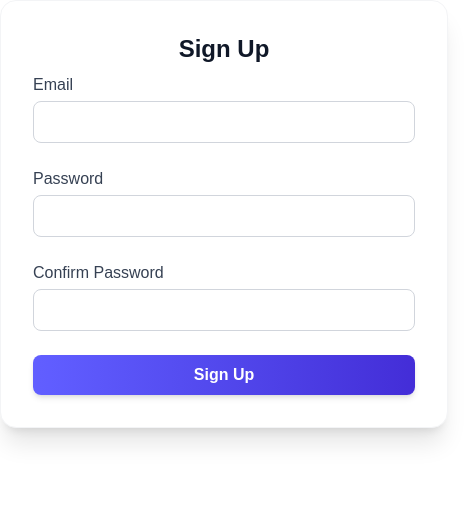
Scenario: SignupForm › shows success message after successful signup
Type "test@example.com" into the field labelled "Email" at (224, 122), box [33,101,415,143]
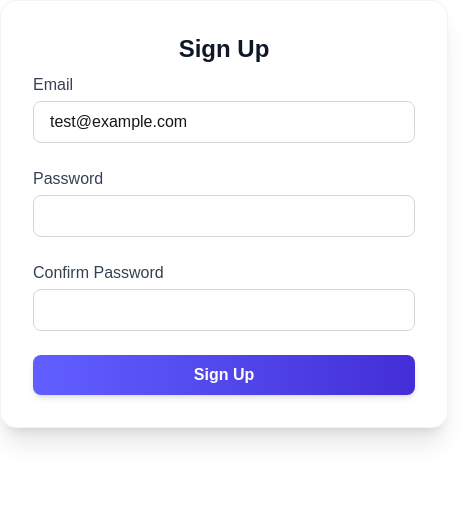
Type "password123" into the password field labelled "Password" at (224, 216), box [33,195,415,237]
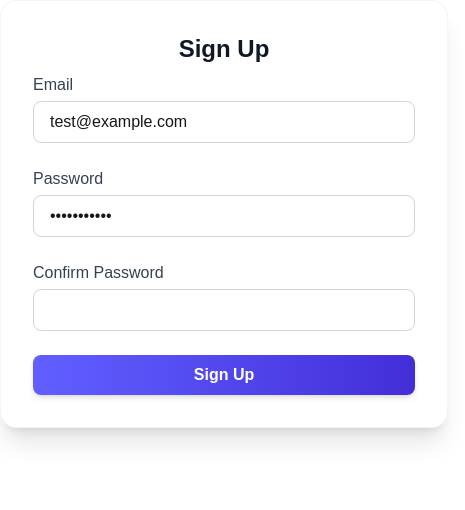
Type "password123" into the password field labelled "Confirm Password" at (224, 310), box [33,289,415,331]
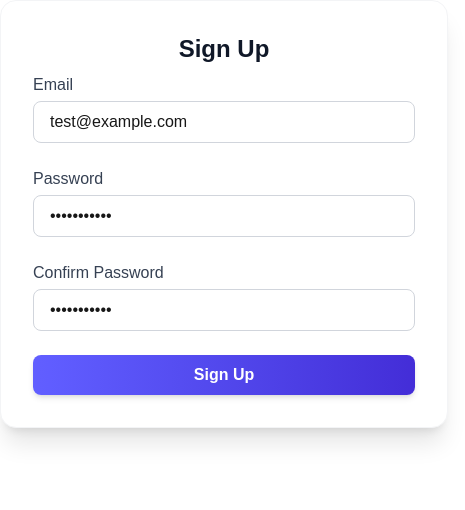
Submit the form
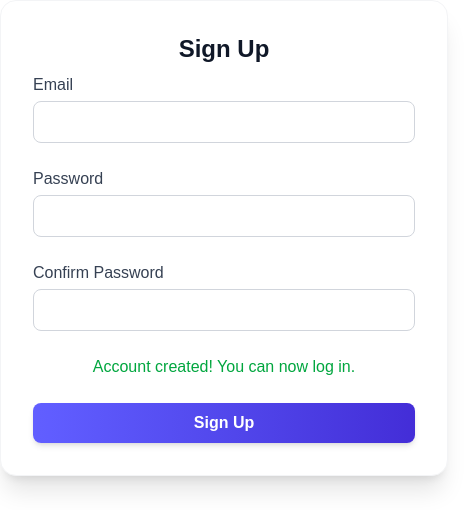
Result: the text "Account created! You can now log in." is shown at [93,358,355,375]
Result: the field labelled "Email" is empty at [33,101,415,143]
Result: the password field labelled "Password" is empty at [33,195,415,237]
